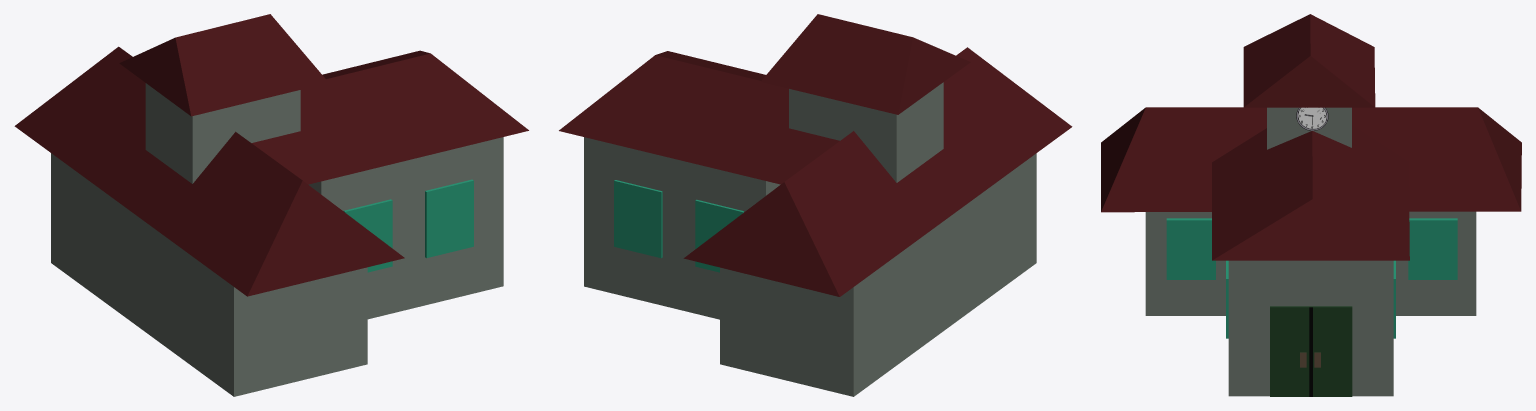
Rendered from SchoolV2.fbx.
3 renders of one model, left to right at view 1: azimuth 30°, elevation 25°; view 2: azimuth 150°, elevation 25°; view 3: azimuth 270°, elevation 25°, orthographic. The views are drawn at different scales.
Parts seen in each view (by area): view 1: Base, BackRoof, FrontRoof, TopRoof, BigTop, Window.002, Window.004; view 2: Base, BackRoof, FrontRoof, TopRoof, BigTop, Window.005, Window.001; view 3: BackRoof, Base, FrontRoof, TopRoof, Door, Window.006, Window.003, BigTop, clock.
Boxes of the visible parts, x1,y1,x2,y2 form: Base: (51,83,503,396); BackRoof: (14,46,404,296); FrontRoof: (252,50,528,184); TopRoof: (119,14,328,116); BigTop: (308,137,503,197); Window.002: (425,179,473,258); Window.004: (343,199,392,272); Base: (584,82,1036,396); BackRoof: (683,47,1072,296); FrontRoof: (559,51,839,184); TopRoof: (760,14,970,114); BigTop: (584,137,780,197); Window.005: (614,180,662,258); Window.001: (695,199,743,272); BackRoof: (1101,107,1521,212); Base: (1145,107,1476,396); FrontRoof: (1212,125,1409,260); TopRoof: (1243,14,1375,107); Door: (1270,306,1352,396); Window.006: (1408,218,1457,279); Window.003: (1166,218,1215,279); BigTop: (1228,260,1393,276); clock: (1296,107,1328,130).
Size of the model in its own units: 4354 by 3450 by 5109.
Materials: 8 (1 with a texture image).
